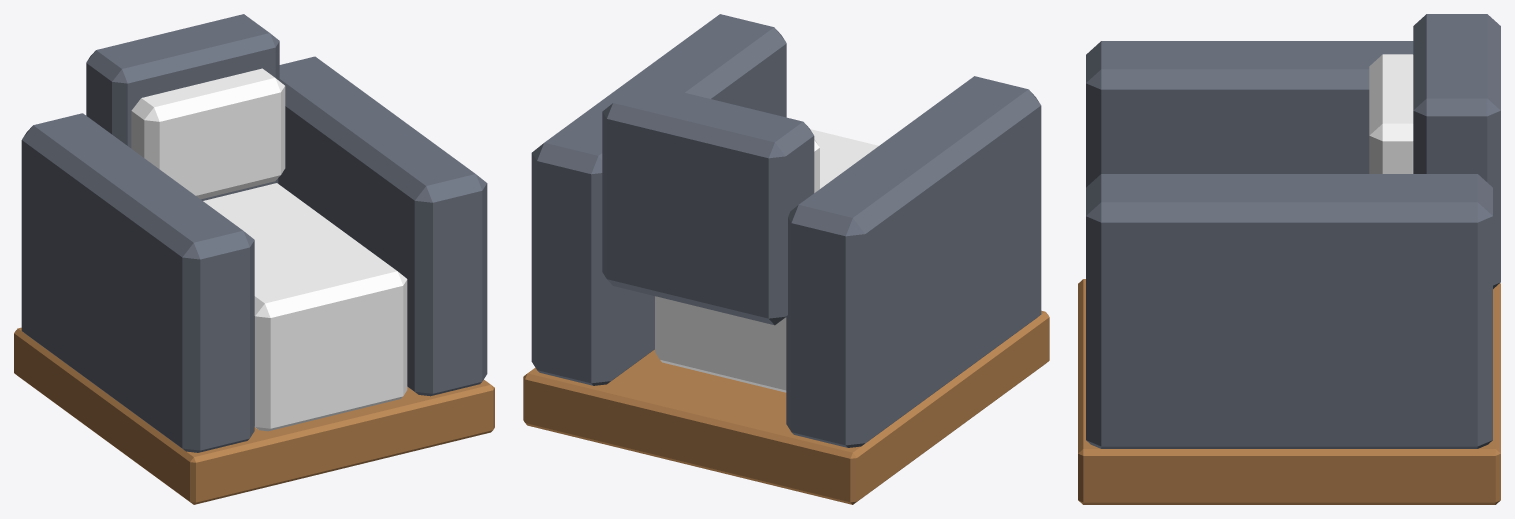
File: armchair-lounge.glb
The picture shows the model from 3 angles, left to right: view 1: azimuth 30°, elevation 25°; view 2: azimuth 150°, elevation 25°; view 3: azimuth 270°, elevation 25°; orthographic projection. The views are drawn at different scales.
Visible parts, largest first — view 1: armchair-lounge.fabric, armchair-lounge.tint, armchair-lounge.wood; view 2: armchair-lounge.fabric, armchair-lounge.wood, armchair-lounge.tint; view 3: armchair-lounge.fabric, armchair-lounge.wood, armchair-lounge.tint.
Part boxes in pixels (<box>): armchair-lounge.fabric: <box>21,14,487,452</box>; armchair-lounge.tint: <box>131,68,407,431</box>; armchair-lounge.wood: <box>14,327,494,504</box>; armchair-lounge.fabric: <box>531,14,1041,447</box>; armchair-lounge.wood: <box>523,310,1049,504</box>; armchair-lounge.tint: <box>655,129,878,392</box>; armchair-lounge.fabric: <box>1086,14,1500,448</box>; armchair-lounge.wood: <box>1078,279,1500,504</box>; armchair-lounge.tint: <box>1369,54,1413,173</box>.
Bounding box in the file's own units: 0.8 × 0.78 × 0.82.
